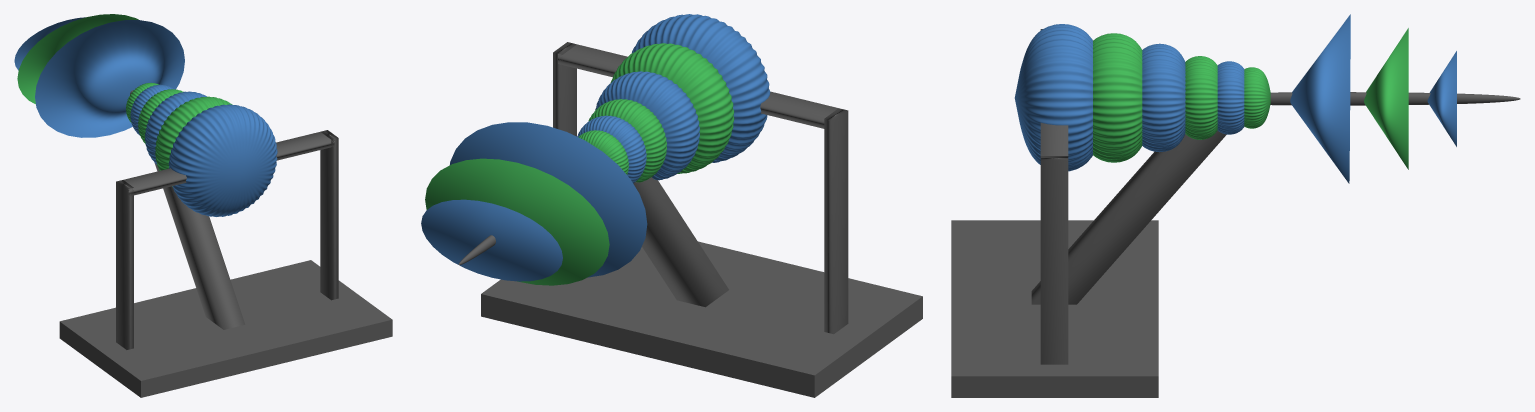
The model's file is gun.fbx.
3 views of the same model, side by side, from view 1: azimuth 30°, elevation 25°; view 2: azimuth 150°, elevation 25°; view 3: azimuth 270°, elevation 25° (orthographic). The views are drawn at different scales.
Parts seen in each view (by area): view 1: Cube.005, Cone.002, Cylinder, Cube.004, Cube.003, Cube.002, Cone.001, Cube.001, Cylinder.001, Cylinder.002, Cylinder.003, Cone (+1 smaller); view 2: Cube.005, Cone.002, Cone.001, Cone, Cylinder, Cylinder.001, Cube.004, Cube.002, Cylinder.002, Cube.001, Cylinder.003, Cube.003 (+2 smaller); view 3: Cube.005, Cylinder, Cube.004, Cylinder.001, Cube.003, Cone.002, Cylinder.002, Cone.001, Cylinder.003, Cylinder.004, Cone, Cylinder.005 (+2 smaller).
Part boxes in pixels (x1=…): Cube.005: x1=59, y1=260, x2=392, y2=397; Cone.002: x1=35, y1=20, x2=184, y2=137; Cylinder: x1=168, y1=104, x2=277, y2=216; Cube.004: x1=154, y1=163, x2=245, y2=329; Cube.003: x1=320, y1=130, x2=338, y2=300; Cube.002: x1=116, y1=180, x2=133, y2=349; Cone.001: x1=17, y1=14, x2=138, y2=104; Cube.001: x1=123, y1=131, x2=334, y2=196; Cylinder.001: x1=155, y1=96, x2=232, y2=186; Cylinder.002: x1=145, y1=91, x2=206, y2=164; Cylinder.003: x1=138, y1=89, x2=183, y2=143; Cone: x1=14, y1=17, x2=85, y2=70; Cube.005: x1=481, y1=241, x2=922, y2=397; Cone.002: x1=450, y1=122, x2=647, y2=277; Cone.001: x1=425, y1=158, x2=609, y2=285; Cone: x1=421, y1=199, x2=562, y2=281; Cylinder: x1=631, y1=14, x2=770, y2=162; Cylinder.001: x1=610, y1=43, x2=734, y2=173; Cube.004: x1=633, y1=177, x2=728, y2=307; Cube.002: x1=824, y1=108, x2=848, y2=334; Cylinder.002: x1=595, y1=71, x2=699, y2=180; Cube.001: x1=558, y1=44, x2=838, y2=128; Cylinder.003: x1=588, y1=99, x2=666, y2=182; Cube.003: x1=553, y1=42, x2=576, y2=136; Cube.005: x1=951, y1=220, x2=1158, y2=397; Cylinder: x1=1014, y1=24, x2=1093, y2=171; Cube.004: x1=1031, y1=130, x2=1226, y2=304; Cylinder.001: x1=1093, y1=33, x2=1142, y2=162; Cube.003: x1=1040, y1=156, x2=1068, y2=364; Cone.002: x1=1290, y1=14, x2=1350, y2=183; Cylinder.002: x1=1142, y1=43, x2=1185, y2=152; Cone.001: x1=1364, y1=28, x2=1408, y2=169; Cylinder.003: x1=1185, y1=56, x2=1217, y2=139; Cylinder.004: x1=1217, y1=61, x2=1244, y2=134; Cone: x1=1427, y1=51, x2=1456, y2=146; Cylinder.005: x1=1244, y1=67, x2=1270, y2=128.
Bounding box in the file's own units: 470 × 426 × 725.
